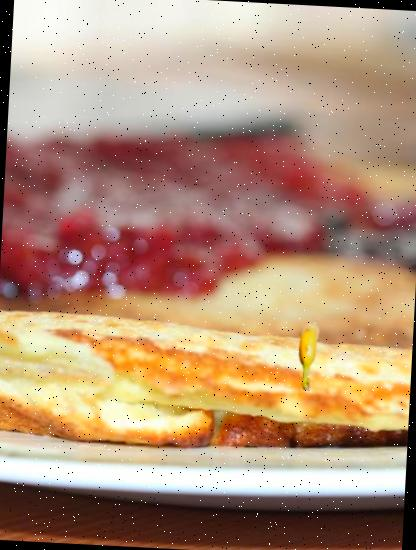Banana: (270, 320, 344, 394)
